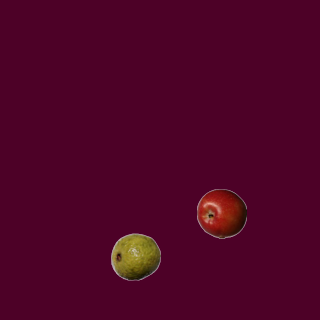Apple Braeburn: (196, 188, 246, 238)
Guava: (110, 231, 160, 281)
